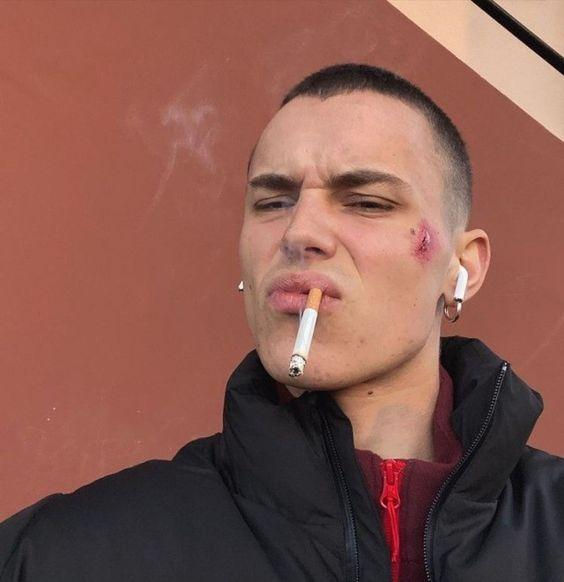cigarette: (289, 287, 323, 378)
